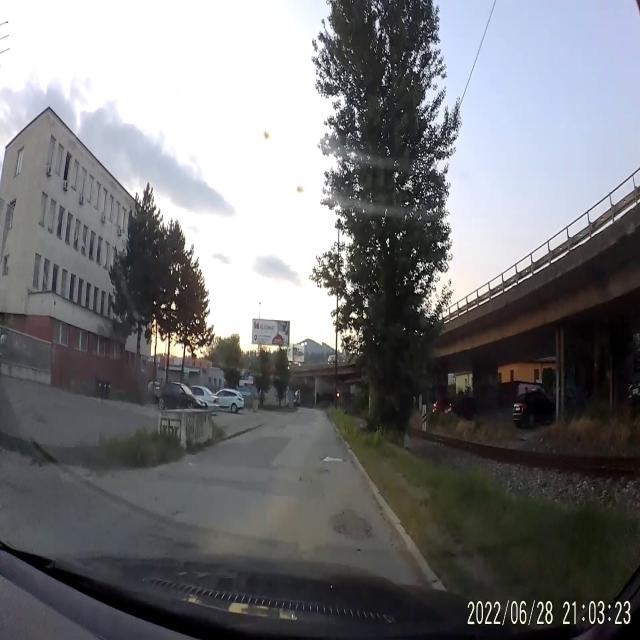Pothole: (328, 508, 374, 544), (322, 454, 344, 466), (326, 469, 330, 474)
